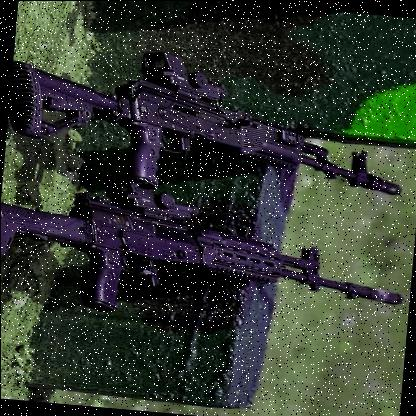rifle: (0, 191, 406, 346), (7, 50, 414, 203)
